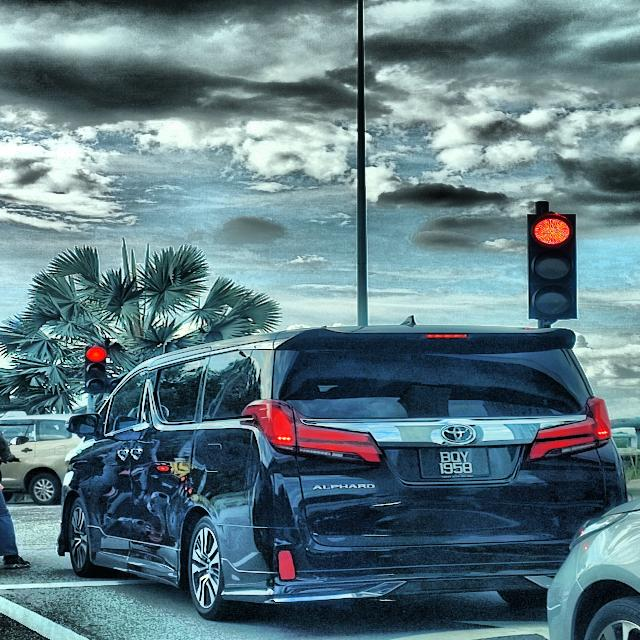red: (528, 212, 580, 322), (82, 345, 106, 396)
